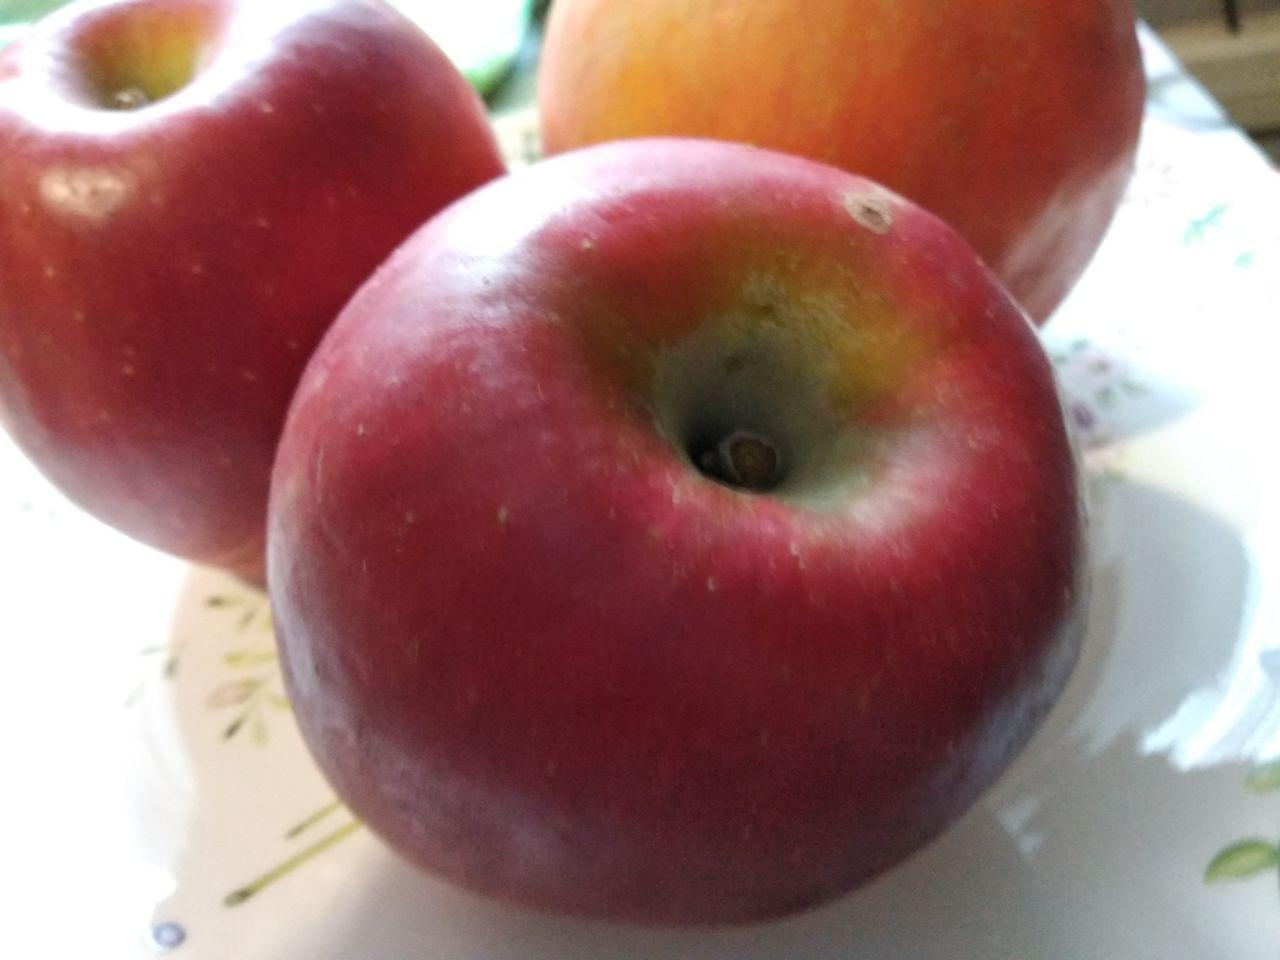Apple: (262, 137, 1090, 929)
